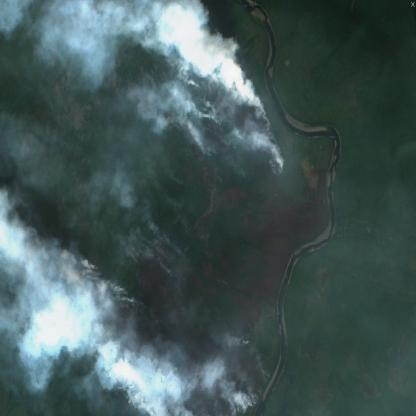fire: (73, 58, 285, 416)
